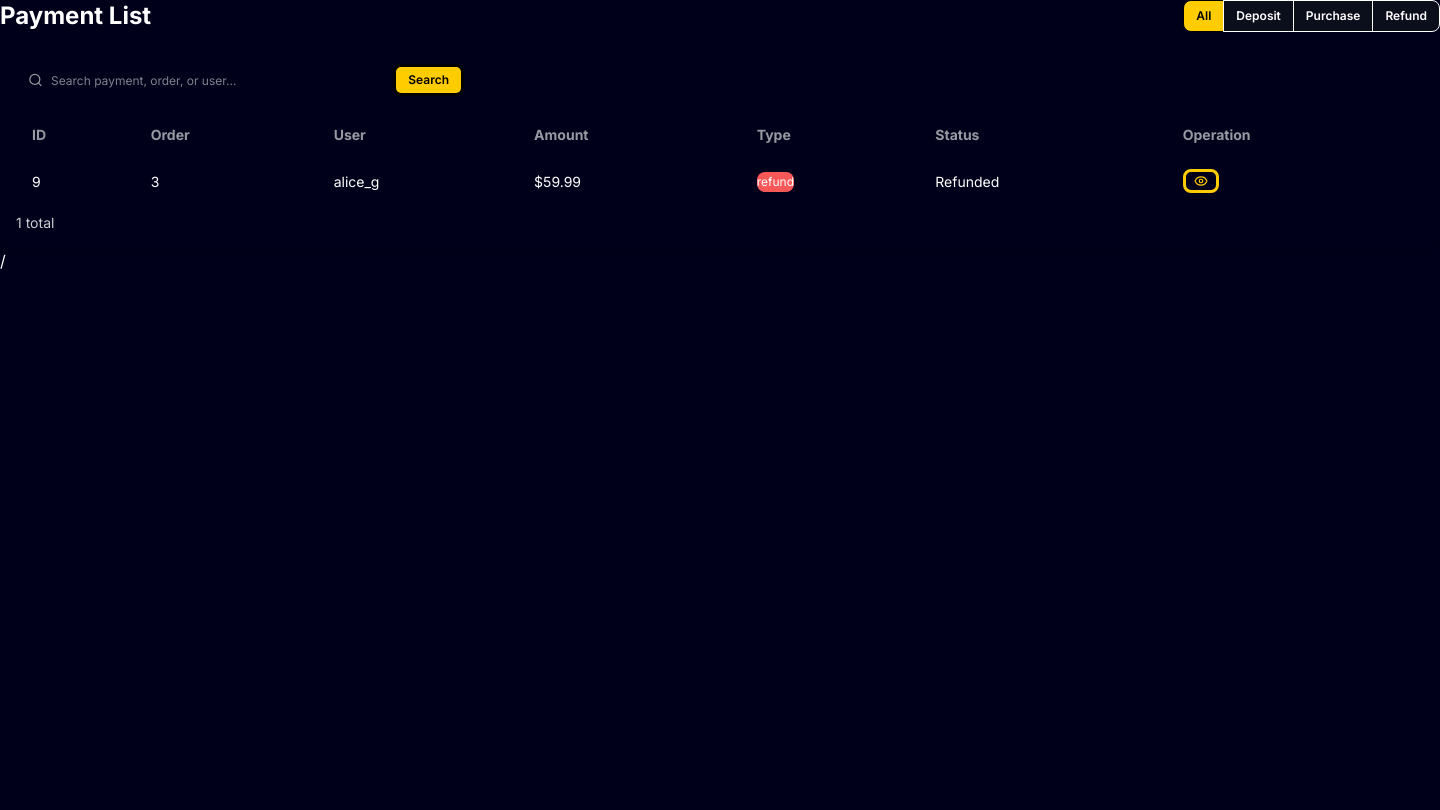
read-only lists › filters payments by type
Expected: the text "Refunded" is shown, [919, 157, 1167, 205]
Click the button "Refund".
click(1406, 16)  # box [1372, 0, 1439, 32]
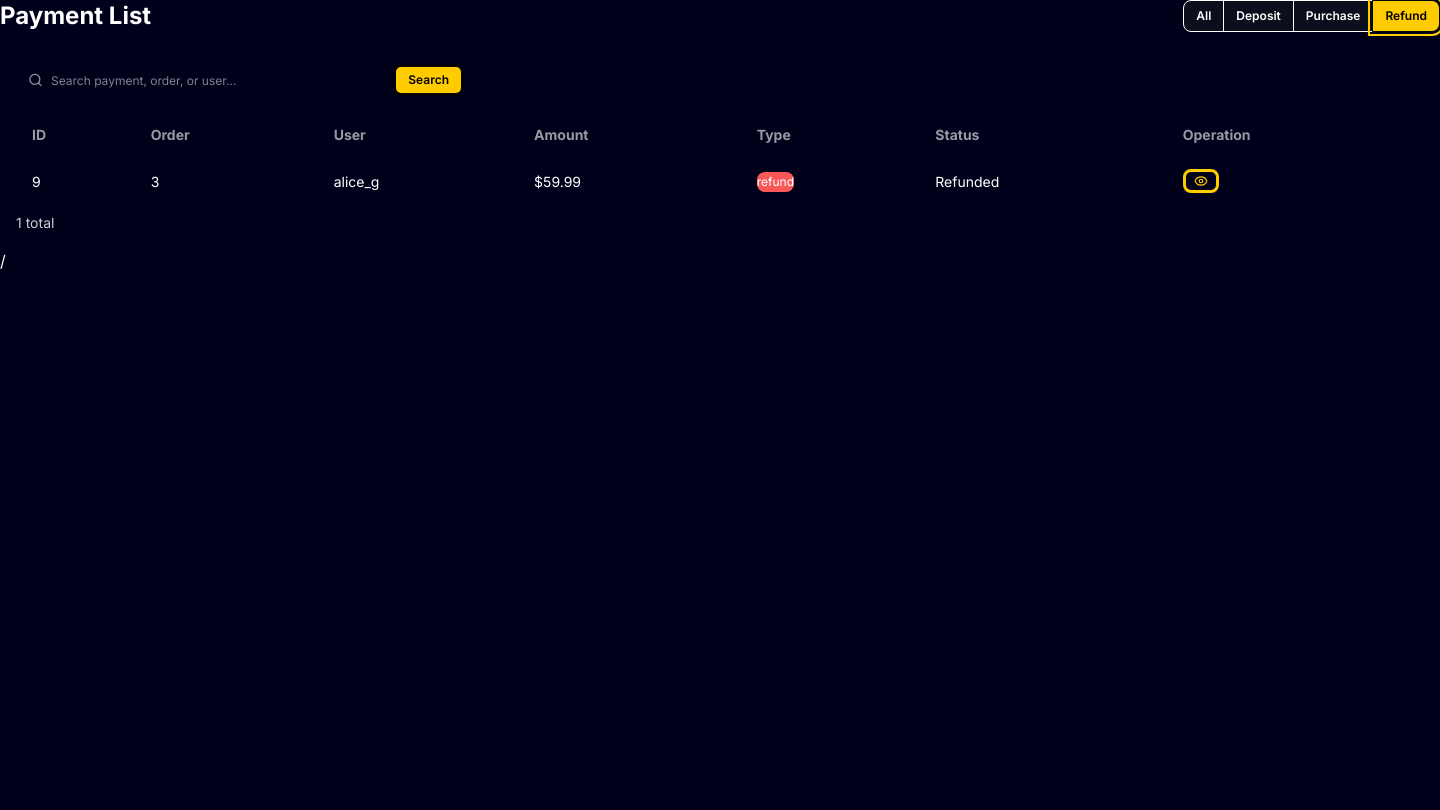
Click the button named "View payment 9".
click(1201, 181)  # box [1183, 169, 1219, 193]
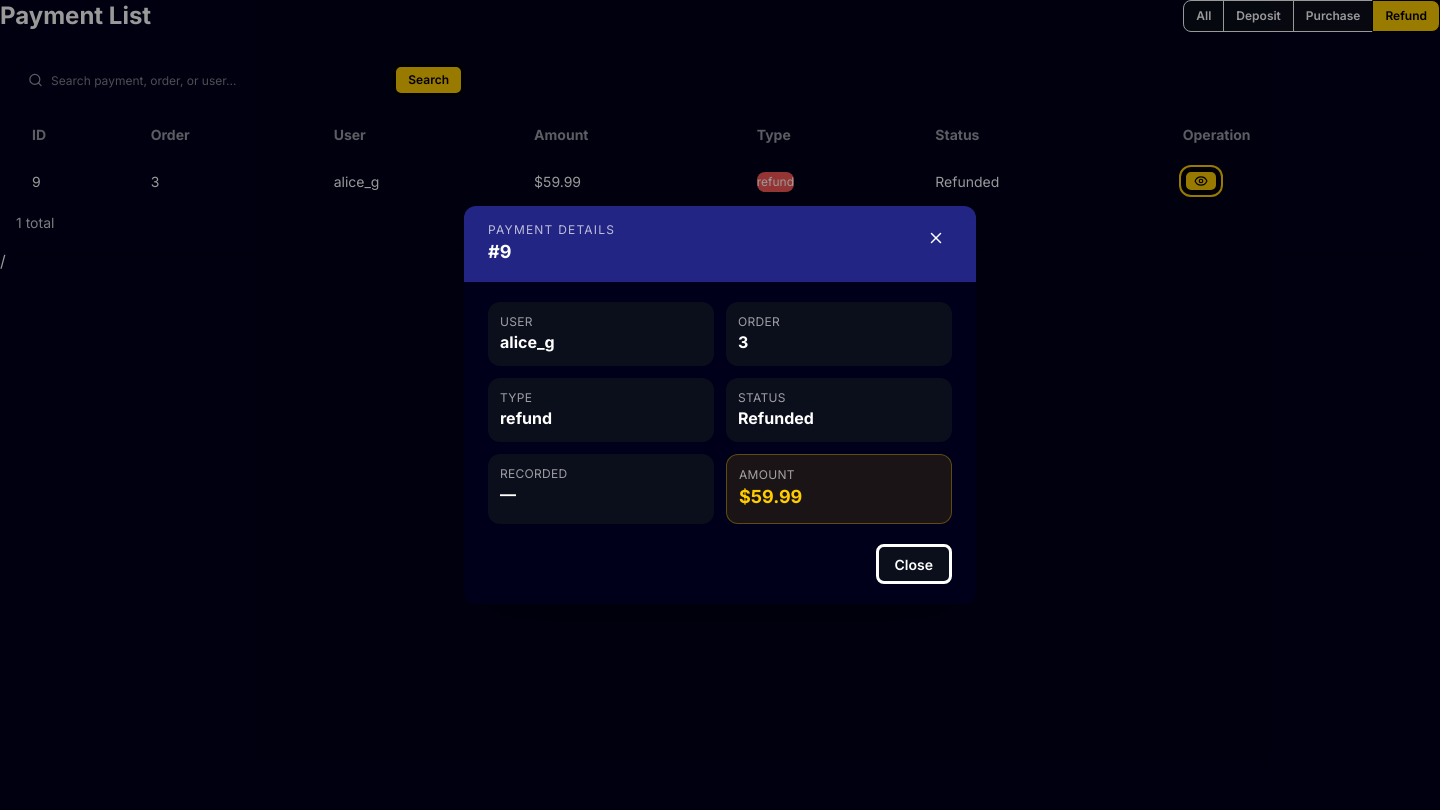
Expected: the text "$59.99" is shown, [739, 486, 802, 507]
